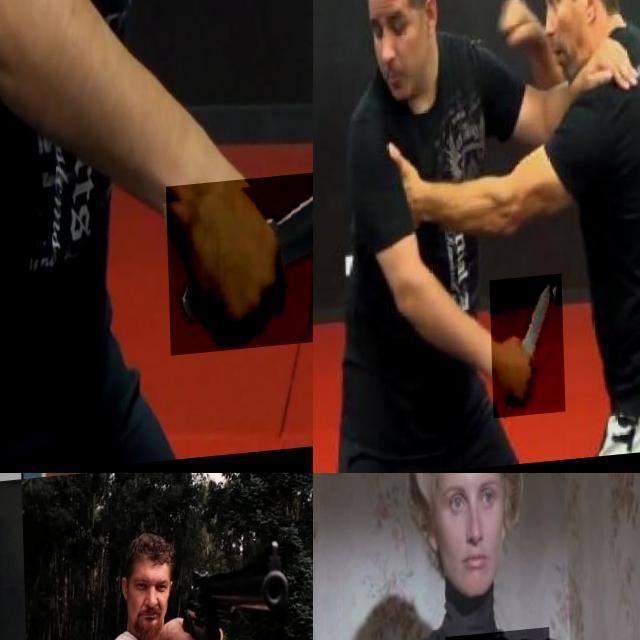-: (163, 174, 313, 360), (486, 280, 562, 424)
gun-knife-thesis - v11 Yolov5 augmented: (0, 473, 164, 633), (163, 563, 284, 640), (165, 473, 313, 534), (123, 473, 188, 510)
